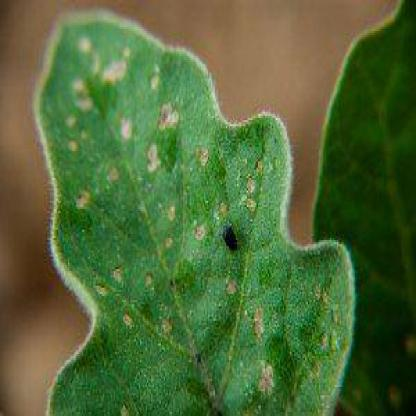beetle: (219, 221, 239, 252)
